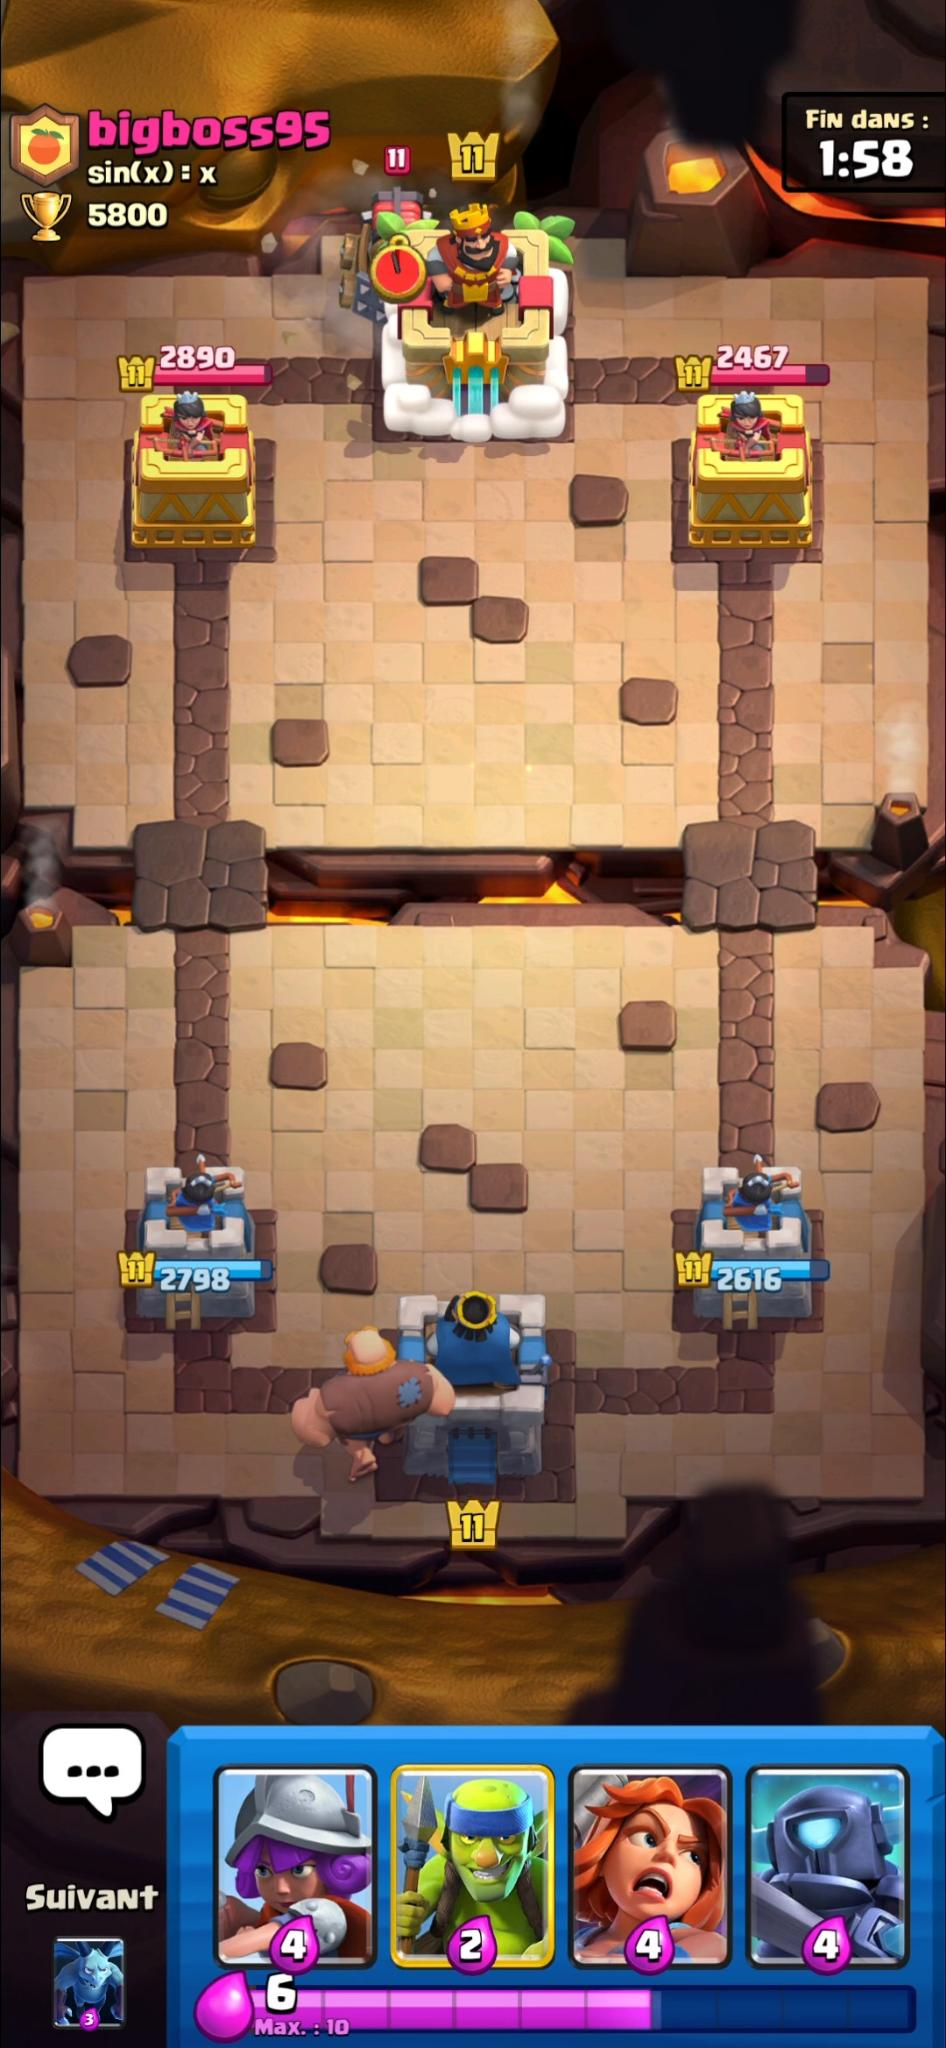geant: (289, 1330, 457, 1481)
zappy: (341, 189, 438, 321)
